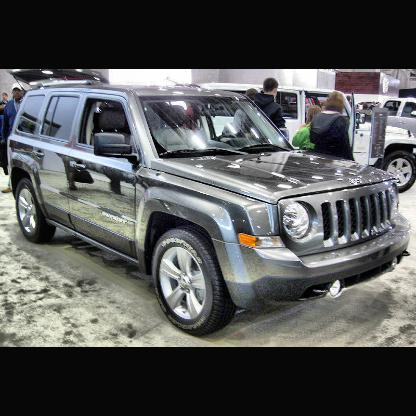Jeep Patriot SUV 2012: (6, 84, 412, 339)
